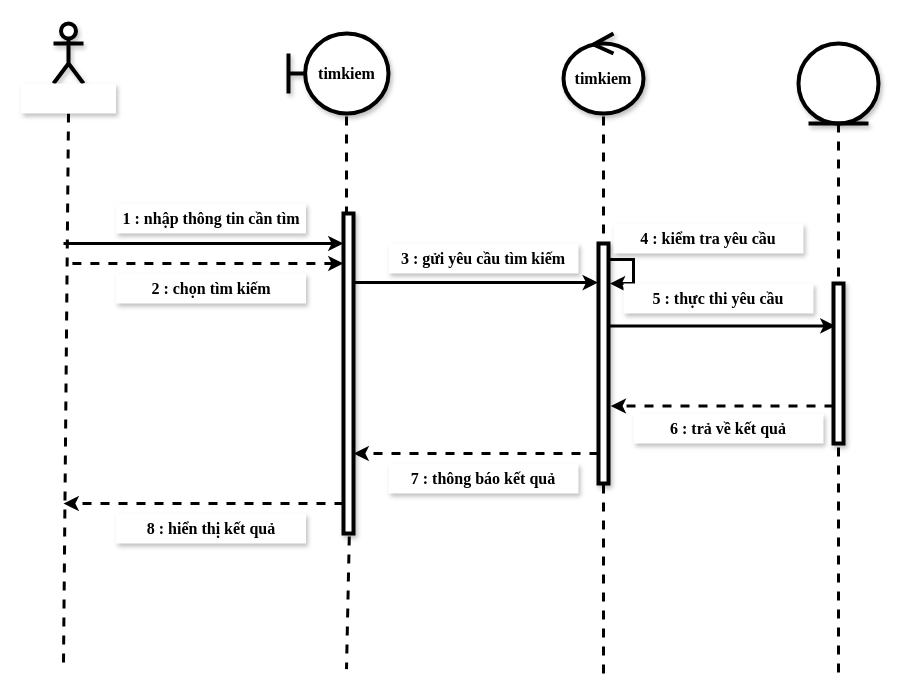
Image size: 904x693. Some labels were removed from this diagram. Each missing label, with the centre of its shape:
"Actor" goes at (69,54).
"csdl" goes at (839,84).
"khachhang" goes at (69,99).
